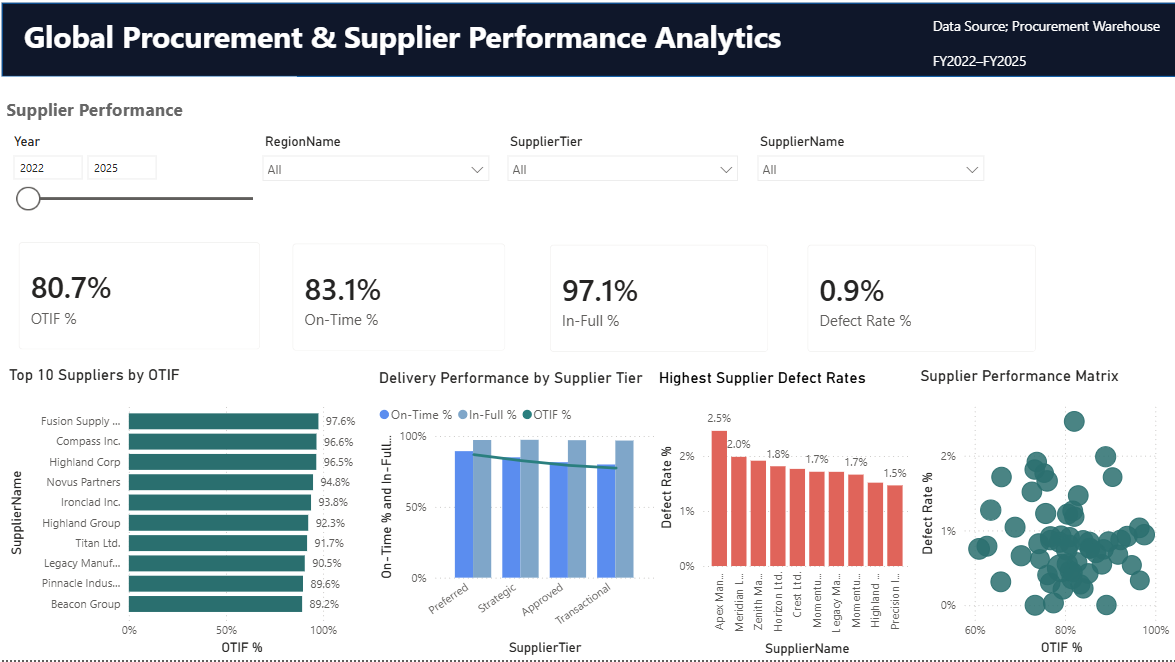

What the dashboard file says about the page in this screenshot:
{"tool":"powerbi","page":{"name":"03 Supplier Performance","canvas":[1280,720],"ordinal":2},"visuals":[{"type":"shape","box":[9.6,9.6,1271,80],"z":0},{"type":"textbox","box":[28.8,19.2,1085.4,70],"z":1000},{"type":"textbox","box":[9.6,89.2,318.4,56.3],"z":2000},{"type":"textbox","box":[1010,19.2,270.3,70],"z":3000},{"type":"slicer","fields":{"Values":["DimDate.Year"]},"box":[9.8,145.8,318,150],"z":4000},{"type":"slicer","fields":{"Values":["DimSupplier.SupplierTier"]},"box":[545.5,145.8,269.2,150],"z":5000},{"type":"slicer","fields":{"Values":["DimRegion.RegionName"]},"box":[280.5,145.8,265,150],"z":6000},{"type":"slicer","fields":{"Values":["DimSupplier.SupplierName"]},"box":[815.4,146.2,264.9,149],"z":7000},{"type":"cardVisual","fields":{"Data":["_Measures (2).OTIF %"]},"box":[11,251.1,295.2,150.4],"z":8000},{"type":"cardVisual","fields":{"Data":["_Measures (2).In-Full %"]},"box":[585,253.8,270.4,150.4],"z":9000},{"type":"cardVisual","fields":{"Data":["_Measures (2).On-Time %"]},"box":[306.3,252.5,264.9,150.4],"z":10000},{"type":"cardVisual","fields":{"Data":["_Measures (2).Defect Rate %"]},"box":[863.6,253.8,281.4,150.4],"z":11000},{"type":"clusteredBarChart","title":"Top 10 Suppliers by OTIF","fields":{"Category":["DimSupplier.SupplierName"],"Y":["_Measures (2).OTIF %"]},"box":[12.5,401.2,399.6,318.4],"z":12000},{"type":"lineClusteredColumnComboChart","title":"Delivery Performance by Supplier Tier","fields":{"Category":["DimSupplier.SupplierTier"],"Y":["_Measures (2).On-Time %","_Measures (2).In-Full %"],"Y2":["_Measures (2).OTIF %"]},"box":[412.1,404.3,307.5,315.3],"z":13000},{"type":"clusteredColumnChart","title":"Highest Supplier Defect Rates","fields":{"Category":["DimSupplier.SupplierName"],"Y":["_Measures (2).Defect Rate %"]},"box":[714.4,403.8,282.3,316],"z":14000},{"type":"scatterChart","title":"Supplier Performance Matrix","fields":{"Category":["DimSupplier.SupplierName"],"Size":["_Measures (2).Total Spend"],"X":["_Measures (2).OTIF %"],"Y":["_Measures (2).Defect Rate %"]},"box":[996.7,402.4,282.5,316.9],"z":15000}]}

Visuals, with their boxes in screenshot pixels (x1, y1, x2, y2), scaled from the page's 1280x720 canvas onto the 1175x662 screenshot:
shape: BBox(9, 9, 1174, 82)
textbox: BBox(26, 18, 1023, 82)
textbox: BBox(9, 82, 301, 134)
textbox: BBox(927, 18, 1174, 82)
slicer - DimDate.Year: BBox(9, 134, 301, 272)
slicer - DimSupplier.SupplierTier: BBox(501, 134, 748, 272)
slicer - DimRegion.RegionName: BBox(257, 134, 501, 272)
slicer - DimSupplier.SupplierName: BBox(749, 134, 992, 271)
cardVisual - _Measures (2).OTIF %: BBox(10, 231, 281, 369)
cardVisual - _Measures (2).In-Full %: BBox(537, 233, 785, 372)
cardVisual - _Measures (2).On-Time %: BBox(281, 232, 524, 370)
cardVisual - _Measures (2).Defect Rate %: BBox(793, 233, 1051, 372)
"Top 10 Suppliers by OTIF" clusteredBarChart: BBox(11, 369, 378, 661)
"Delivery Performance by Supplier Tier" lineClusteredColumnComboChart: BBox(378, 372, 661, 661)
"Highest Supplier Defect Rates" clusteredColumnChart: BBox(656, 371, 915, 661)
"Supplier Performance Matrix" scatterChart: BBox(915, 370, 1174, 661)
